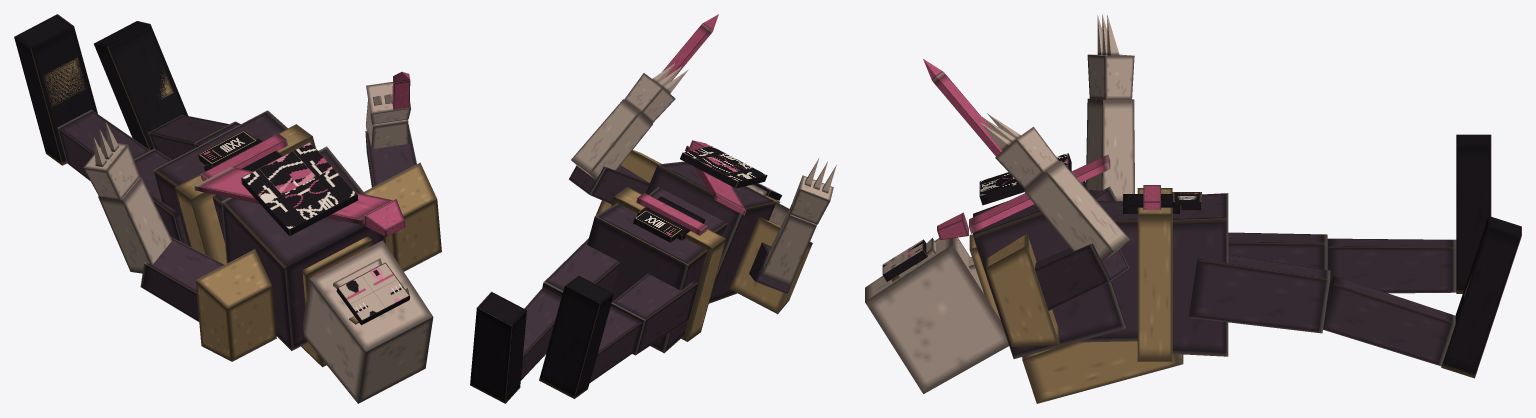
Rendered from promissor_hurt.obj.
The picture shows the model from 3 angles, left to right: view 1: azimuth 30°, elevation 25°; view 2: azimuth 150°, elevation 25°; view 3: azimuth 270°, elevation 25°; orthographic projection. The views are drawn at different scales.
Visible parts, largest first — view 1: promissor_hurt; view 2: promissor_hurt; view 3: promissor_hurt.
Part boxes in pixels (x1,y1,x2,y2): promissor_hurt: [14, 14, 441, 403]; promissor_hurt: [470, 14, 836, 403]; promissor_hurt: [865, 14, 1521, 403].
Bounding box in the file's own units: 0.6458 × 0.6259 × 1.06.
Materials: 1 (1 with a texture image).
